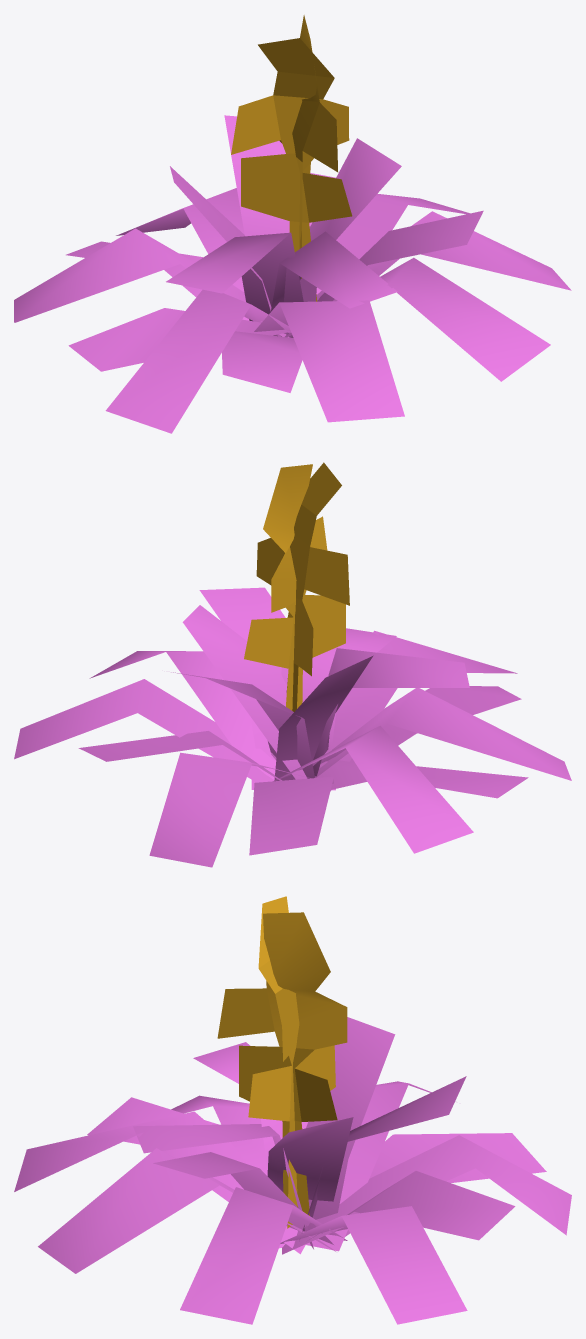
File: Fiore_rosa.fbx
3 views of the same model, one above another, from view 1: azimuth 30°, elevation 25°; view 2: azimuth 150°, elevation 25°; view 3: azimuth 270°, elevation 25° (orthographic). The views are drawn at different scales.
Visible parts, largest first — view 1: Fiore.001; view 2: Fiore.001; view 3: Fiore.001.
Part boxes in pixels (bbox=[...]): Fiore.001: bbox=[14, 15, 571, 433]; Fiore.001: bbox=[14, 462, 571, 867]; Fiore.001: bbox=[14, 896, 571, 1324].
Bounding box in the file's own units: 1567 × 1025 × 1552.
